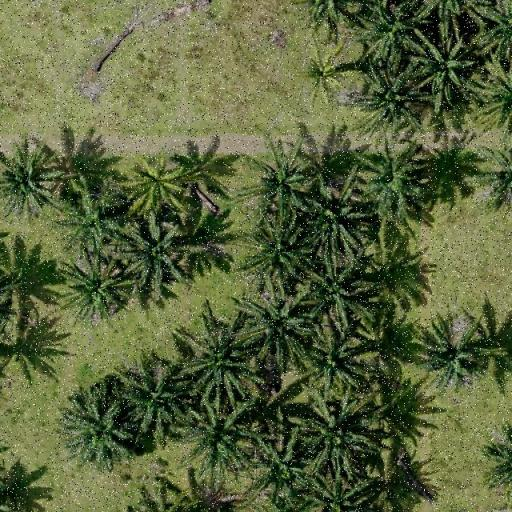Ganoderma: (132, 158, 180, 201), (295, 54, 344, 94)
